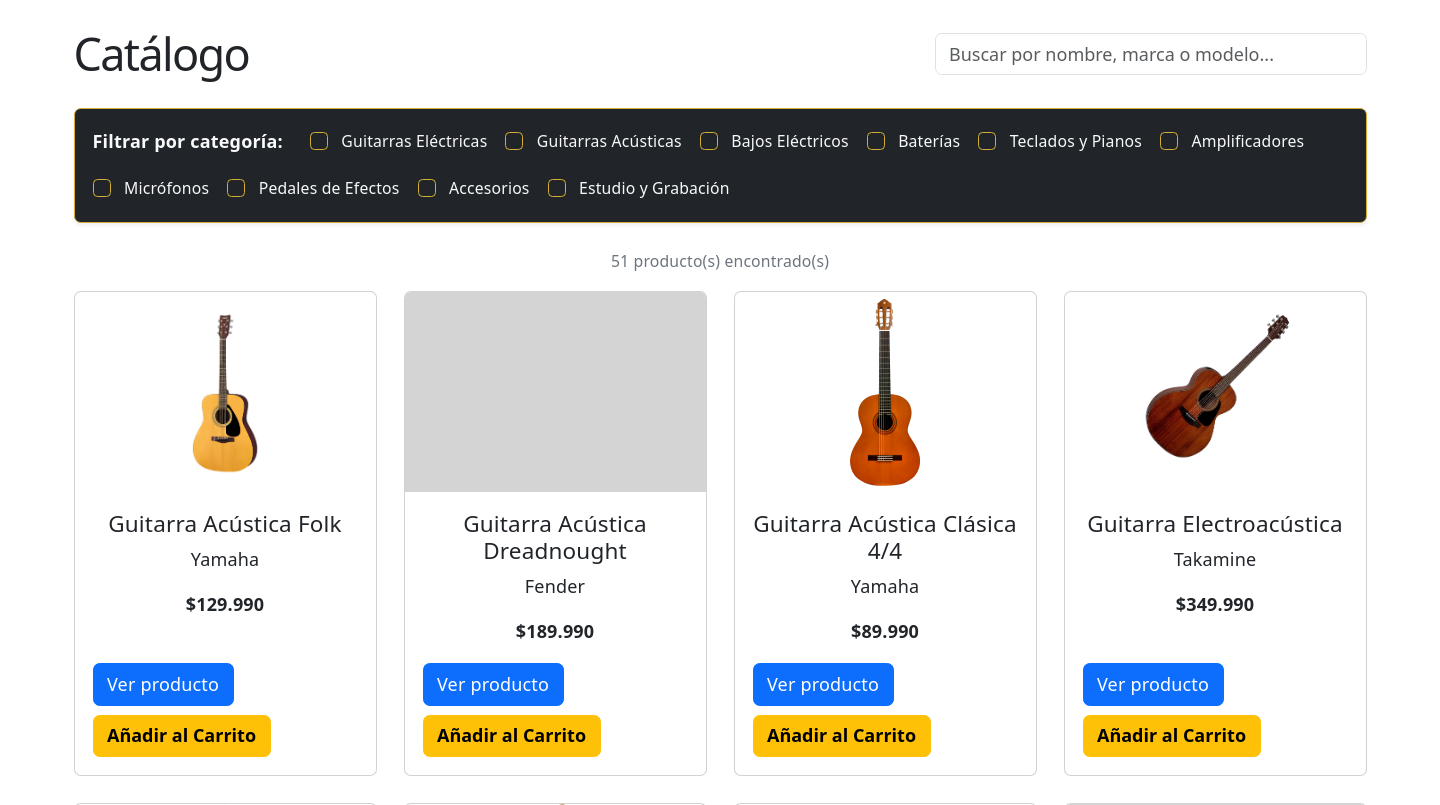
Scenario: Filtros en la página de productos › muestra el aviso solo cuando la búsqueda no tiene resultados
Expected: the text "No hay productos" is not shown
In the search field named "Buscar productos": {"x": 1150, "y": 54} x1=934 y1=33 x2=1366 y2=75, type "zzz"
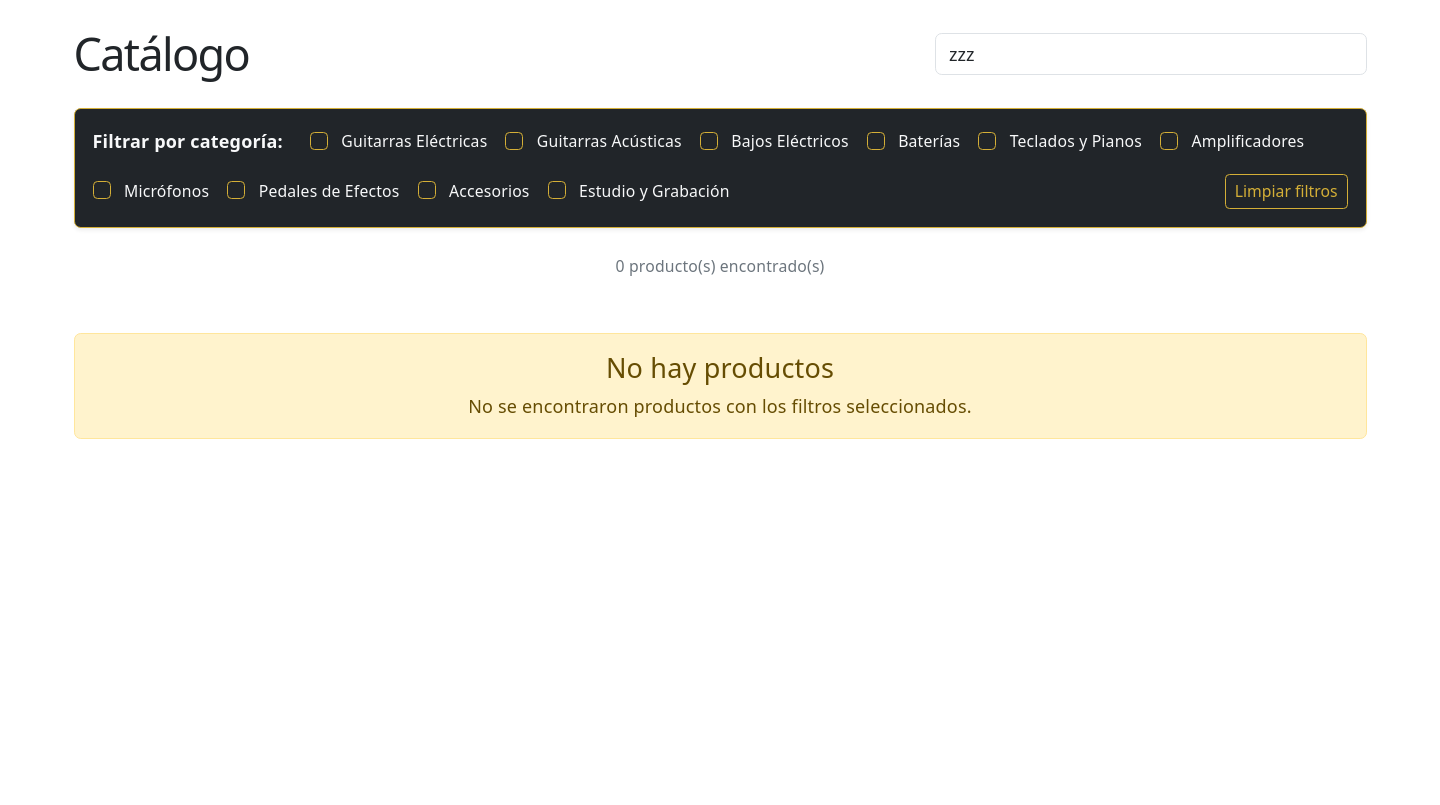
Now no links "Ver producto" are shown
Now the heading "No hay productos" is shown, box x1=606 y1=348 x2=834 y2=386
